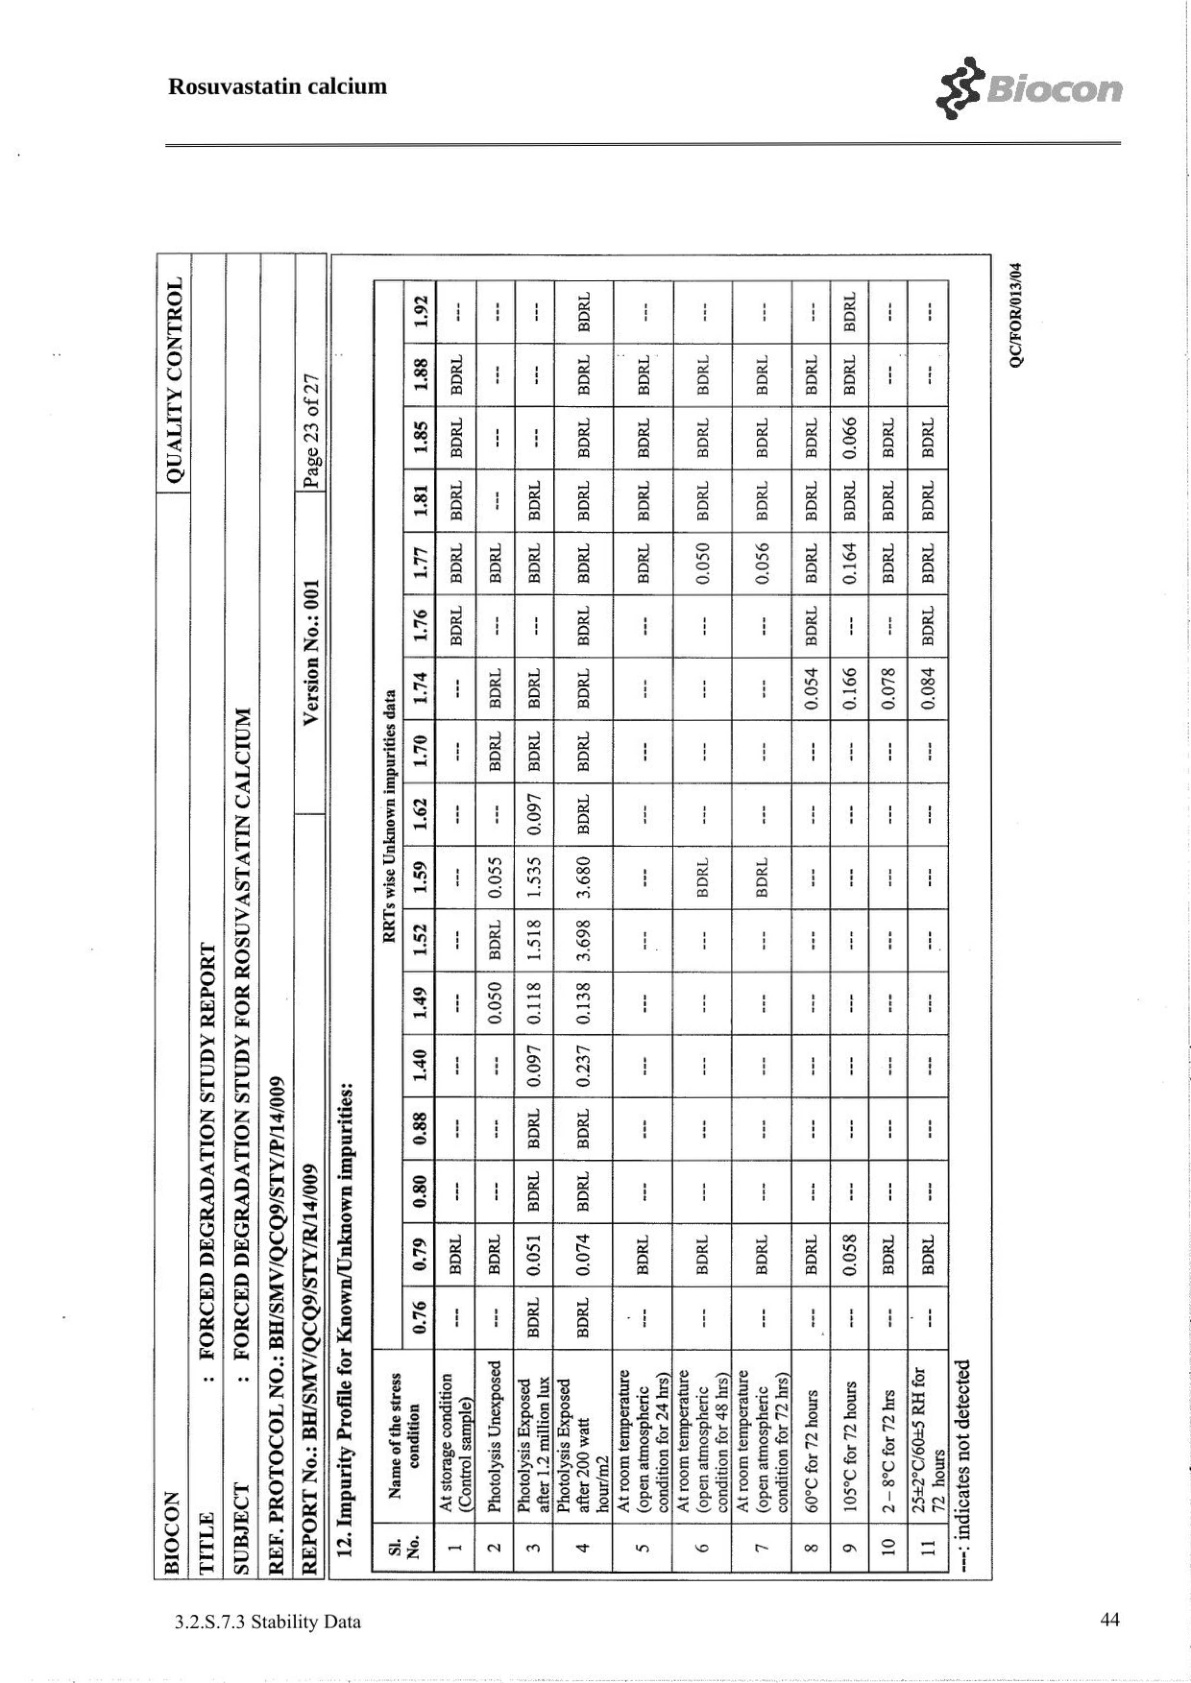merged_cells: (370, 278, 950, 1573), (152, 253, 327, 1581)
